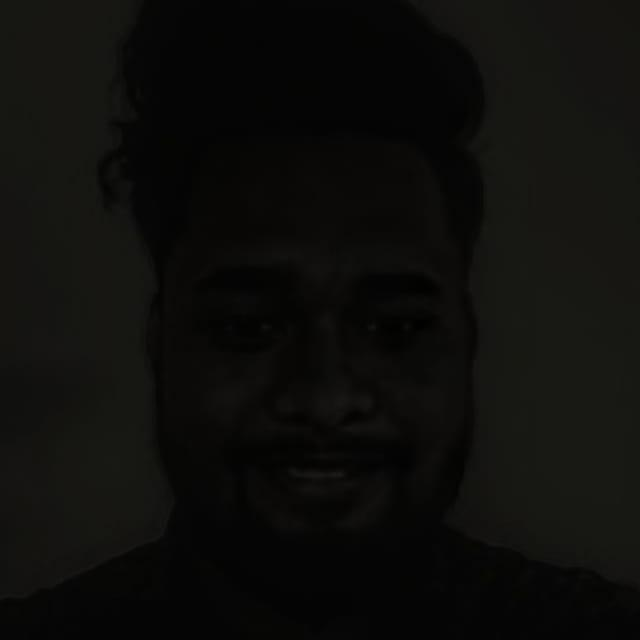Happy: (110, 125, 551, 613)
